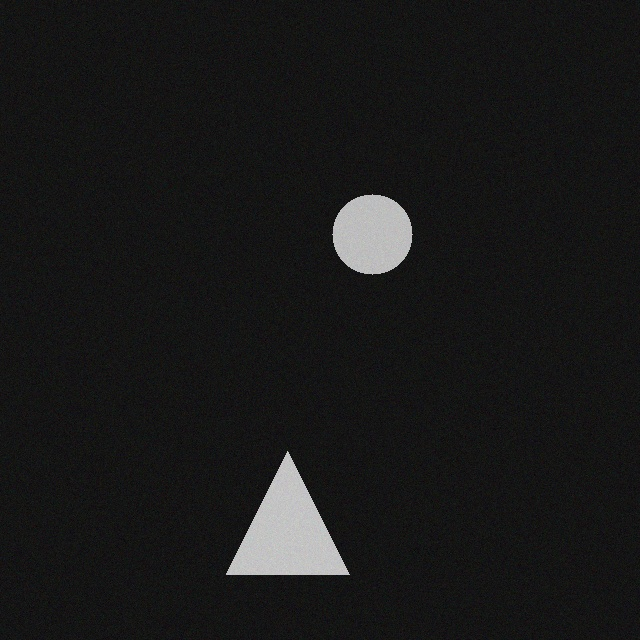circle: (320, 192, 400, 272)
triangle: (214, 449, 337, 572)
